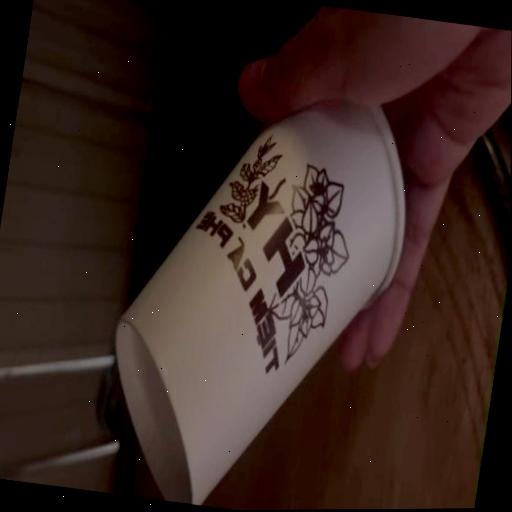ly_giay: (117, 101, 405, 505)
